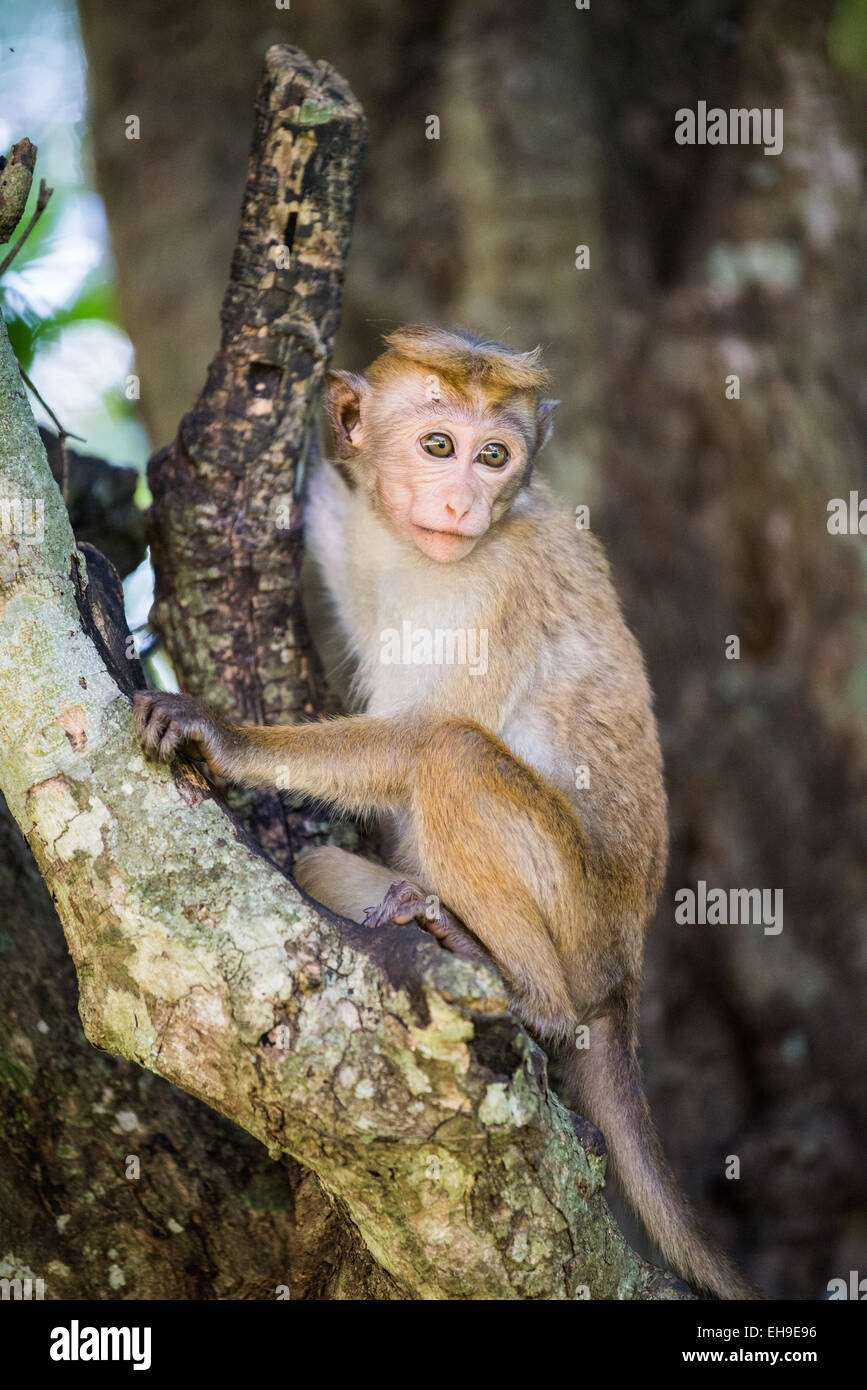Monkey: (282, 286, 724, 1122)
